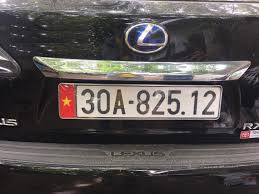number-plate: (76, 86, 219, 119)
